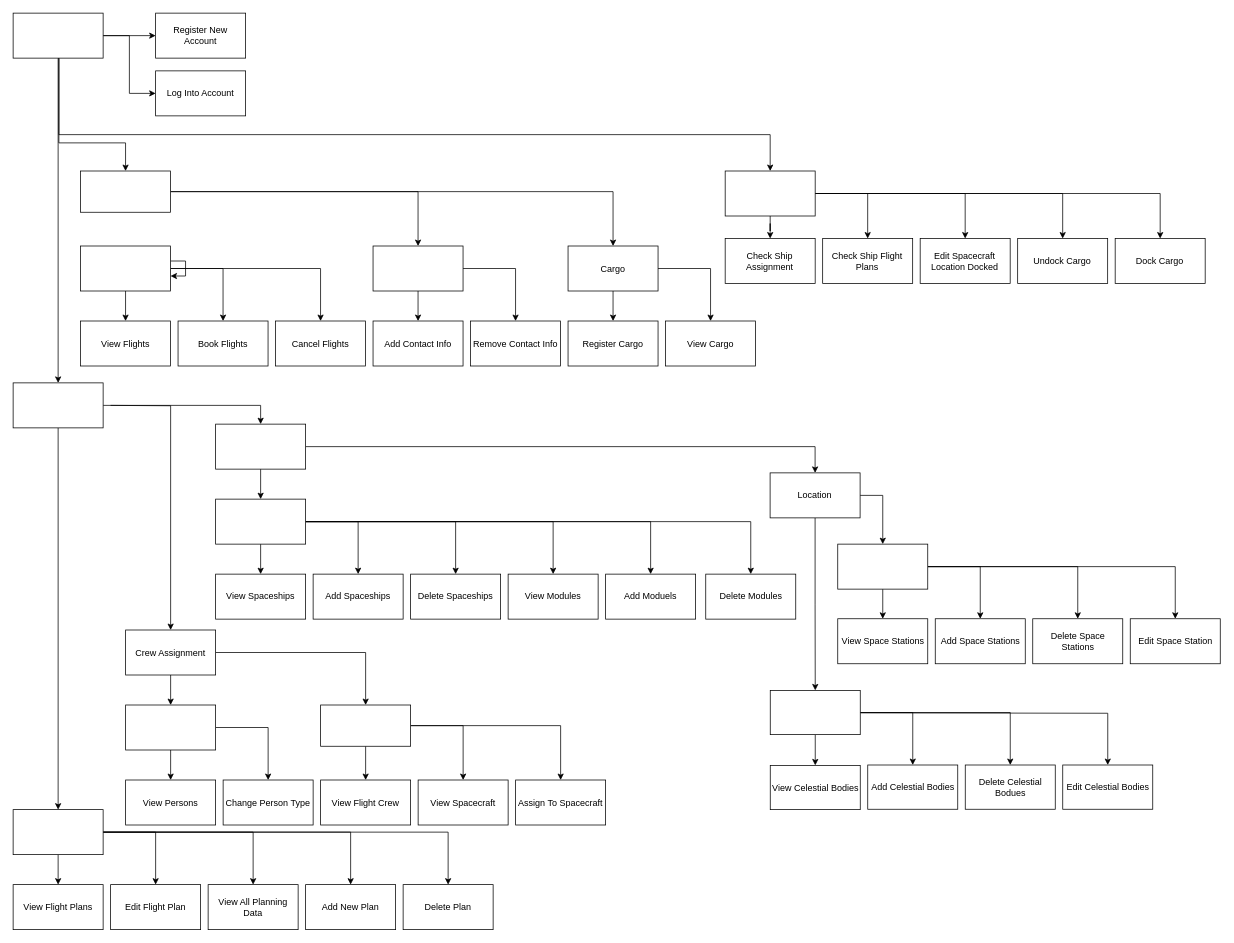
Image size: 1234x943. Some labels were removed from this diagram. Here are the shapes that lost their labels. From the top down, the box of each, then its label:
(12, 12, 103, 58): Login Screen
(80, 170, 171, 212): Client
(724, 170, 815, 216): Flight Crew
(80, 245, 171, 291): Flights
(372, 245, 463, 291): Contact Info
(12, 382, 103, 428): Ground Crew
(215, 423, 306, 469): Adjust World State
(215, 498, 306, 544): Spaceships
(837, 543, 928, 589): Space Station
(125, 704, 216, 750): Employees
(320, 704, 411, 746): Flight Crew Assignment
(770, 690, 860, 735): Celestial Body
(12, 809, 103, 855): Flight Plan
